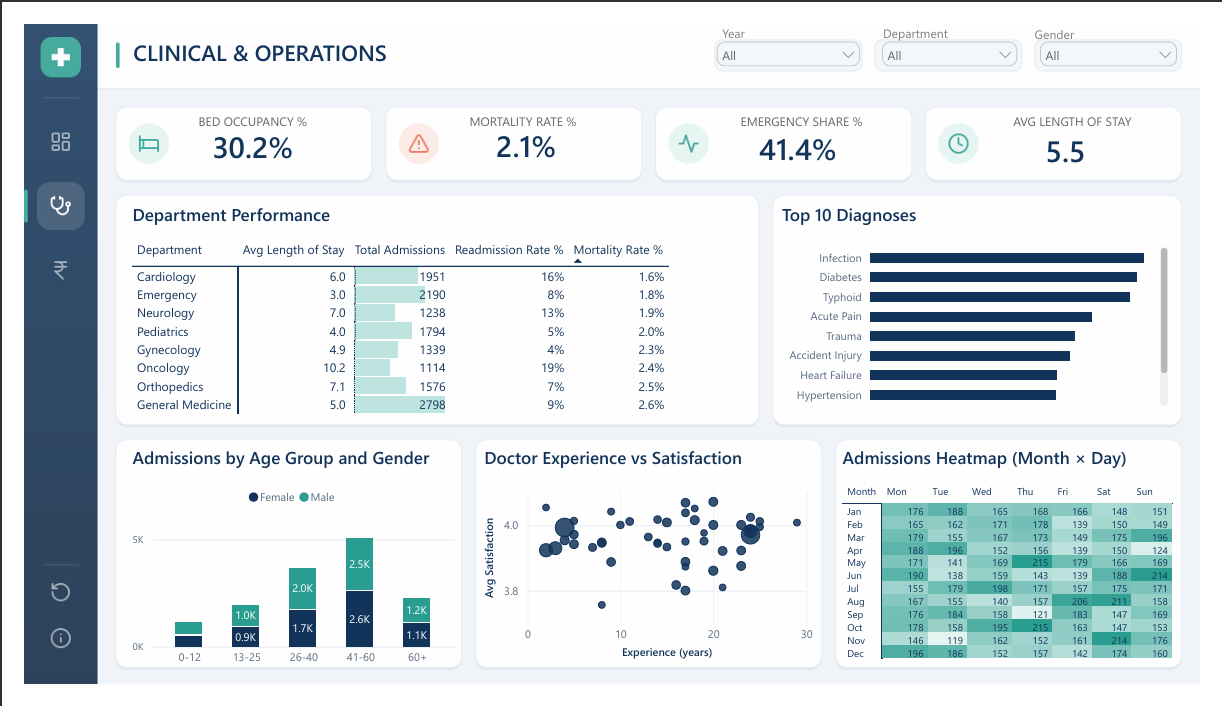

The dashboard page shown, as its layout file describes it:
{"tool":"powerbi","page":{"name":"Clinical & Operations","canvas":[1280,720],"ordinal":1},"visuals":[{"type":"textbox","box":[119.3,14.3,292.7,39.8],"z":0},{"type":"slicer","fields":{"Values":["Dim_Date.Year"]},"box":[749.2,14.3,165.4,41.4],"z":1000},{"type":"actionButton","box":[0,97,79.5,57.3],"z":2000},{"type":"actionButton","box":[0,237,79.5,57.3],"z":3000},{"type":"slicer","fields":{"Values":["Dim_Department.DepartmentName"]},"box":[928.9,14.3,157.5,35],"z":4000},{"type":"textbox","box":[190,97,134.1,24.2],"z":5000},{"type":"textbox","box":[485,97,134.1,24.2],"z":6000},{"type":"textbox","box":[780,97,134.1,24.2],"z":7000},{"type":"textbox","box":[1073,97,134.1,24.2],"z":8000},{"type":"cardVisual","fields":{"Data":["_measures.Bed Occupancy %"]},"box":[189.3,106.6,130.4,50.9],"z":9000},{"type":"cardVisual","fields":{"Data":["_measures.Mortality Rate %"]},"box":[497.9,108.2,108.2,46.1],"z":10000},{"type":"cardVisual","fields":{"Data":["_measures.Emergency Share %"]},"box":[784.2,109.8,127.2,49.3],"z":11000},{"type":"cardVisual","fields":{"Data":["_measures.Avg Length of Stay"]},"box":[1095.9,116.1,90.7,41.4],"z":12000},{"type":"pivotTable","title":"Department Performance","fields":{"Rows":["Dim_Department.DepartmentName"],"Values":["_measures.Avg Length of Stay","_measures.Total Admissions","_measures.Readmission Rate %","_measures.Mortality Rate %"]},"box":[102.1,180.2,636.3,264.7],"z":13000},{"type":"clusteredBarChart","title":"Top 10 Diagnoses","fields":{"Category":["Fact_Admissions.Diagnosis"],"Y":["_measures.Total Admissions"]},"box":[808.5,180.2,452.9,250.4],"z":14000},{"type":"columnChart","title":"Admissions by Age Group and Gender","fields":{"Category":["Dim_Patient.AgeGroup"],"Series":["Dim_Patient.Gender"],"Y":["_measures.Total Admissions"]},"box":[102.1,444.9,382.7,272.7],"z":15000},{"type":"scatterChart","title":"Doctor Experience vs Satisfaction","fields":{"Category":["Dim_Doctor.DoctorName"],"Size":["_measures.Total Admissions"],"X":["Dim_Doctor.ExperienceYears"],"Y":["_measures.Avg Satisfaction"]},"box":[484.8,444.9,390.7,261.5],"z":16000},{"type":"pivotTable","title":"Admissions Heatmap (Month × Day)","fields":{"Columns":["Dim_Date.DayName"],"Rows":["Dim_Date.Month"],"Values":["_measures.Total Admissions"]},"box":[875.5,444.9,393.9,261.5],"z":17000},{"type":"textbox","box":[760,1,39.9,20.7],"z":18000},{"type":"textbox","box":[935,1,76.5,23.9],"z":19000},{"type":"textbox","box":[1100.3,1.6,63.8,30.3],"z":20000},{"type":"actionButton","box":[17.8,596,45.3,42.1],"z":21000},{"type":"actionButton","box":[17.8,637.6,45.3,51.8],"z":22000},{"type":"slicer","fields":{"Values":["Dim_Patient.Gender"]},"box":[1101,13.6,159.2,40.7],"z":23000}]}

Visuals, with their boxes on the page's 1280x720 design canvas (x1, y1, x2, y2). These are canvas units, not pixel positions in the 1222x706 screenshot, which may show the page scaled, cropped or inside an application window:
textbox: rect(119, 14, 412, 54)
slicer - Dim_Date.Year: rect(749, 14, 915, 56)
actionButton: rect(0, 97, 80, 154)
actionButton: rect(0, 237, 80, 294)
slicer - Dim_Department.DepartmentName: rect(929, 14, 1086, 49)
textbox: rect(190, 97, 324, 121)
textbox: rect(485, 97, 619, 121)
textbox: rect(780, 97, 914, 121)
textbox: rect(1073, 97, 1207, 121)
cardVisual - _measures.Bed Occupancy %: rect(189, 107, 320, 158)
cardVisual - _measures.Mortality Rate %: rect(498, 108, 606, 154)
cardVisual - _measures.Emergency Share %: rect(784, 110, 911, 159)
cardVisual - _measures.Avg Length of Stay: rect(1096, 116, 1187, 158)
"Department Performance" pivotTable: rect(102, 180, 738, 445)
"Top 10 Diagnoses" clusteredBarChart: rect(808, 180, 1261, 431)
"Admissions by Age Group and Gender" columnChart: rect(102, 445, 485, 718)
"Doctor Experience vs Satisfaction" scatterChart: rect(485, 445, 876, 706)
"Admissions Heatmap (Month × Day)" pivotTable: rect(876, 445, 1269, 706)
textbox: rect(760, 1, 800, 22)
textbox: rect(935, 1, 1012, 25)
textbox: rect(1100, 2, 1164, 32)
actionButton: rect(18, 596, 63, 638)
actionButton: rect(18, 638, 63, 689)
slicer - Dim_Patient.Gender: rect(1101, 14, 1260, 54)
